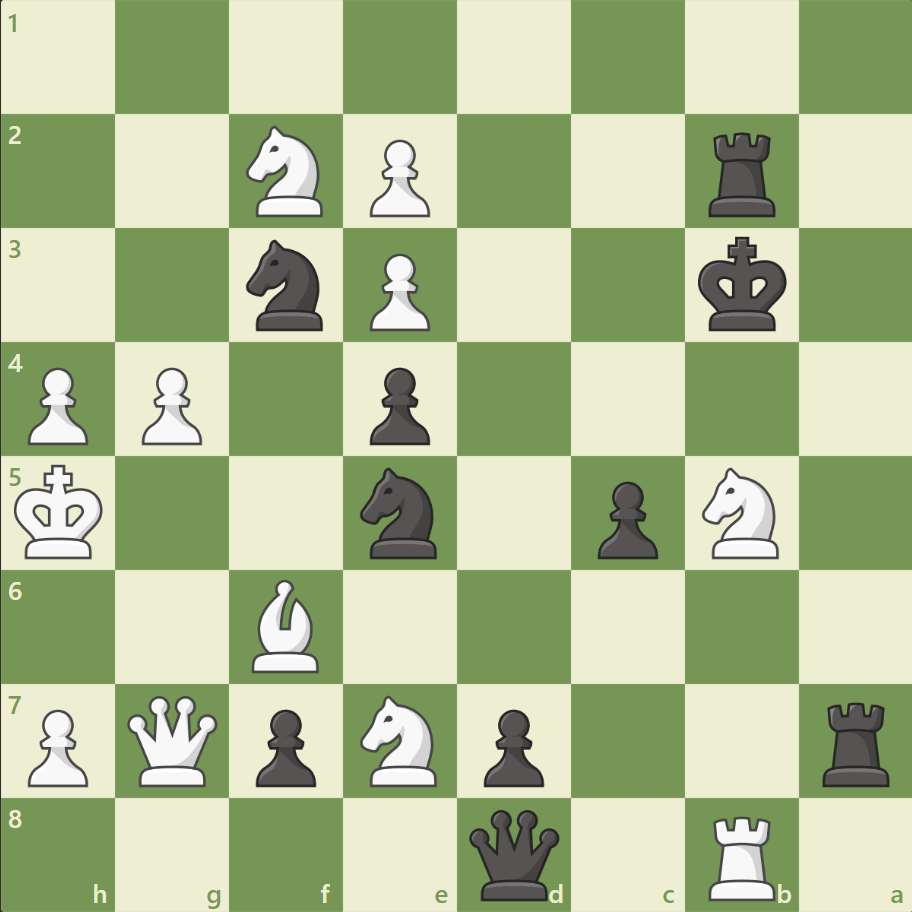B: (244, 574, 328, 676)
K: (11, 458, 111, 566)
N: (351, 688, 449, 791), (692, 461, 789, 564), (238, 121, 335, 223)
P: (20, 700, 95, 791), (133, 359, 208, 450), (20, 359, 95, 450), (361, 246, 435, 337), (361, 132, 435, 223)
Q: (124, 690, 223, 789)
R: (700, 806, 783, 904)
k: (692, 231, 792, 339)
n: (351, 461, 449, 564), (238, 234, 335, 337)
p: (474, 700, 549, 791), (247, 700, 322, 791), (588, 473, 662, 564), (361, 359, 435, 450)
q: (464, 804, 563, 903)
r: (814, 693, 897, 790), (700, 125, 783, 222)
